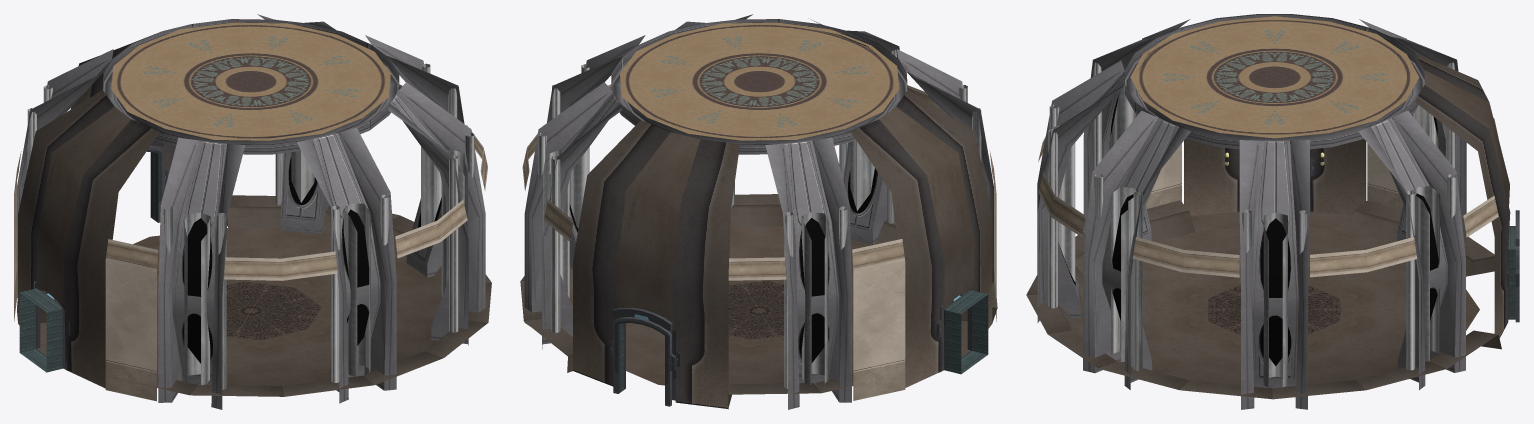
File: Cor1_bldg_Youngling_Room_inside.fbx
3 views of the same model, side by side, from view 1: azimuth 30°, elevation 25°; view 2: azimuth 150°, elevation 25°; view 3: azimuth 270°, elevation 25° (orthographic).
Parts seen in each view (by area): view 1: inside_roof, Cor1_bldg_younglingroom_inside1, polymsh_detached17, young_inside6, polymsh_detached142, young_inside7, young_inside9, polymsh_detached79, young_inside8, young_inside11, polymsh_detached139, pillar23 (+11 smaller); view 2: polymsh_detached17, inside_roof, Cor1_bldg_younglingroom_inside1, young_inside11, polymsh_detached142, young_inside10, polymsh_detached79, young_inside6, polymsh_detached139, pillar35, young_inside7, young_inside8 (+8 smaller); view 3: Cor1_bldg_younglingroom_inside1, inside_roof, polymsh_detached17, young_inside8, young_inside9, young_inside10, polymsh_detached142, young_inside7, polymsh_detached79, young_inside6, pillar30, pillar24 (+11 smaller).
Boxes of the visible parts, left/top/right/bottom form: inside_roof: left=111, top=22, right=390, bottom=140; Cor1_bldg_younglingroom_inside1: left=17, top=195, right=491, bottom=396; polymsh_detached17: left=18, top=36, right=175, bottom=388; young_inside6: left=158, top=137, right=245, bottom=409; polymsh_detached142: left=14, top=84, right=487, bottom=401; young_inside7: left=297, top=127, right=396, bottom=403; young_inside9: left=388, top=82, right=485, bottom=345; polymsh_detached79: left=102, top=19, right=399, bottom=154; young_inside8: left=365, top=35, right=464, bottom=277; young_inside11: left=17, top=49, right=113, bottom=297; polymsh_detached139: left=19, top=288, right=63, bottom=372; pillar23: left=343, top=203, right=370, bottom=376; polymsh_detached17: left=573, top=90, right=992, bottom=408; inside_roof: left=620, top=22, right=899, bottom=140; Cor1_bldg_younglingroom_inside1: left=520, top=194, right=997, bottom=409; young_inside11: left=765, top=137, right=851, bottom=409; polymsh_detached142: left=522, top=84, right=996, bottom=400; young_inside10: left=524, top=82, right=622, bottom=349; polymsh_detached79: left=611, top=19, right=907, bottom=154; young_inside6: left=897, top=49, right=993, bottom=282; polymsh_detached139: left=944, top=290, right=988, bottom=374; pillar35: left=801, top=212, right=828, bottom=384; young_inside7: left=808, top=18, right=899, bottom=244; young_inside8: left=547, top=35, right=645, bottom=269; Cor1_bldg_younglingroom_inside1: left=1026, top=200, right=1501, bottom=399; inside_roof: left=1130, top=16, right=1419, bottom=138; polymsh_detached17: left=1184, top=53, right=1510, bottom=338; young_inside8: left=1239, top=140, right=1309, bottom=409; young_inside9: left=1083, top=110, right=1190, bottom=389; young_inside10: left=1358, top=110, right=1465, bottom=390; polymsh_detached142: left=1038, top=118, right=1498, bottom=277; young_inside7: left=1037, top=60, right=1124, bottom=322; polymsh_detached79: left=1125, top=14, right=1424, bottom=149; young_inside6: left=1083, top=19, right=1190, bottom=240; pillar30: left=1414, top=186, right=1439, bottom=361; pillar24: left=1111, top=186, right=1136, bottom=361.
Size of the model in its own units: 25.43 by 13.1 by 25.
